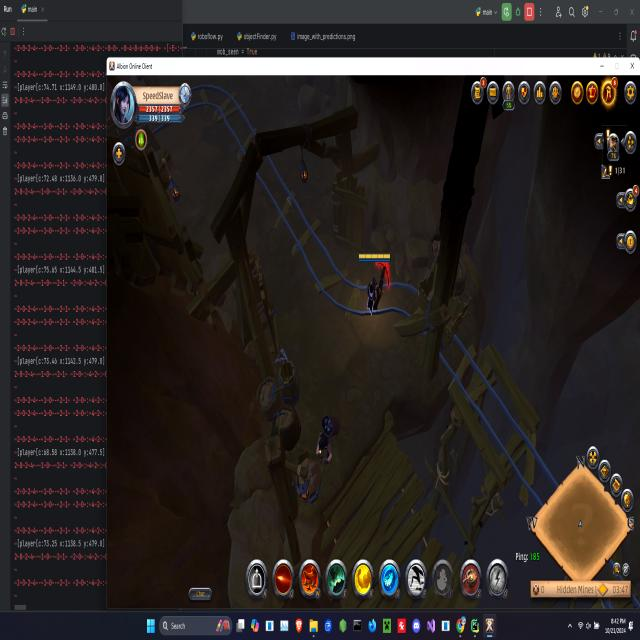ore: (310, 406, 344, 472)
red: (356, 246, 394, 322)
